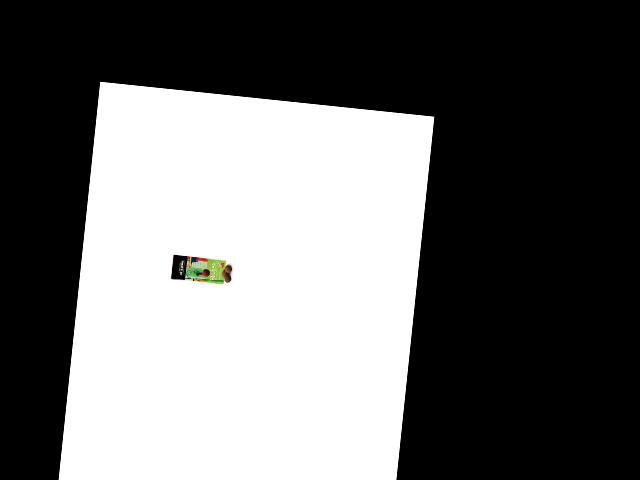chocolate: (168, 250, 227, 290)
